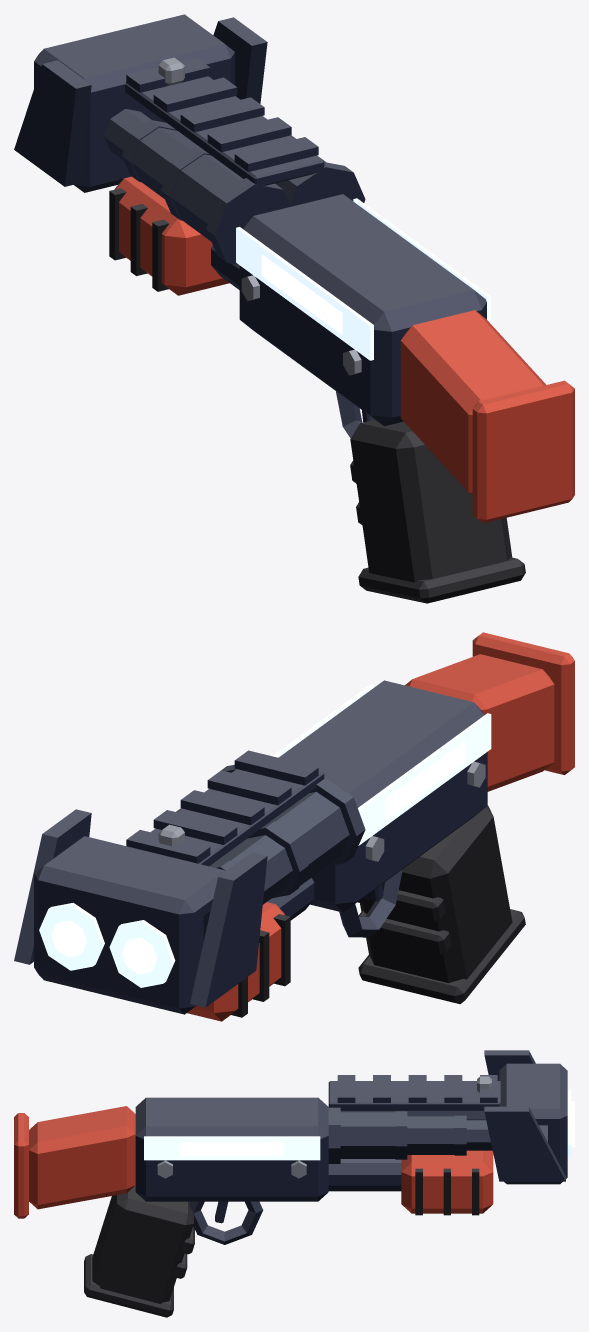
The model's file is Scatter.glb.
3 views of the same model, one above another, from view 1: azimuth 30°, elevation 25°; view 2: azimuth 150°, elevation 25°; view 3: azimuth 270°, elevation 25° (orthographic). The views are drawn at different scales.
Visible parts, largest first — view 1: Body, Halo_Glow, Accent_Glow; view 2: Body, Halo_Glow, Accent_Glow; view 3: Body, Halo_Glow, Accent_Glow.
Boxes of the visible parts, <box> form: Body: <box>14,14,574,603</box>; Halo_Glow: <box>236,198,491,360</box>; Accent_Glow: <box>261,255,342,333</box>; Body: <box>14,632,574,1021</box>; Halo_Glow: <box>39,684,491,987</box>; Accent_Glow: <box>51,741,465,974</box>; Body: <box>14,1050,567,1317</box>; Halo_Glow: <box>144,1090,571,1160</box>; Accent_Glow: <box>180,1101,574,1156</box>.
Bounding box in the file's own units: 0.98 × 1.67 × 3.78.
